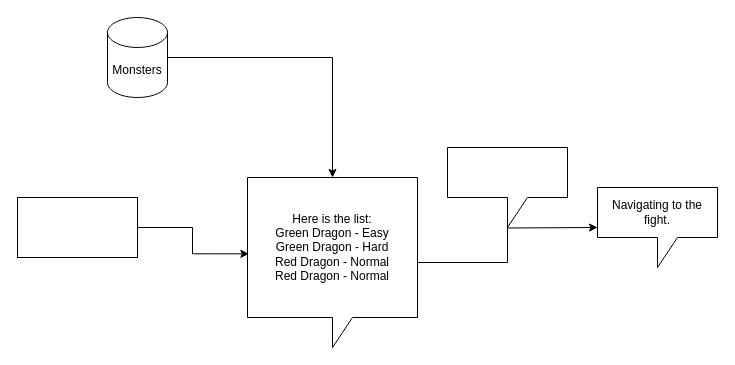
Some shapes in this 735 by 365 pixel diagram are drawn without their labels. The shapes that lost their labels are listed below. From the top down, each one's centre as x and y in pixels, then its label:
At [507,187]: "Red Dragon - Normal".
At [77,227]: "Bounty/Job Board".
